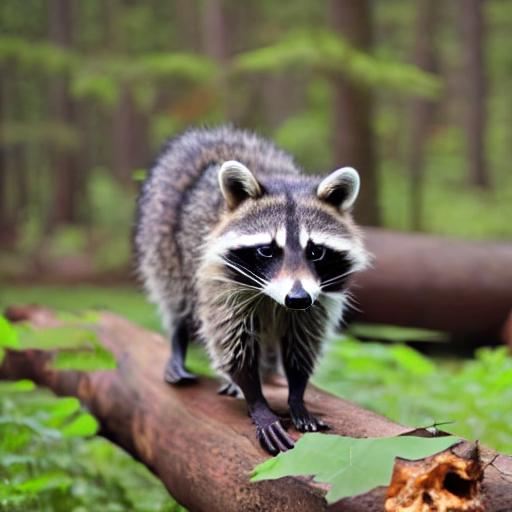raccoon: (128, 115, 382, 362)
